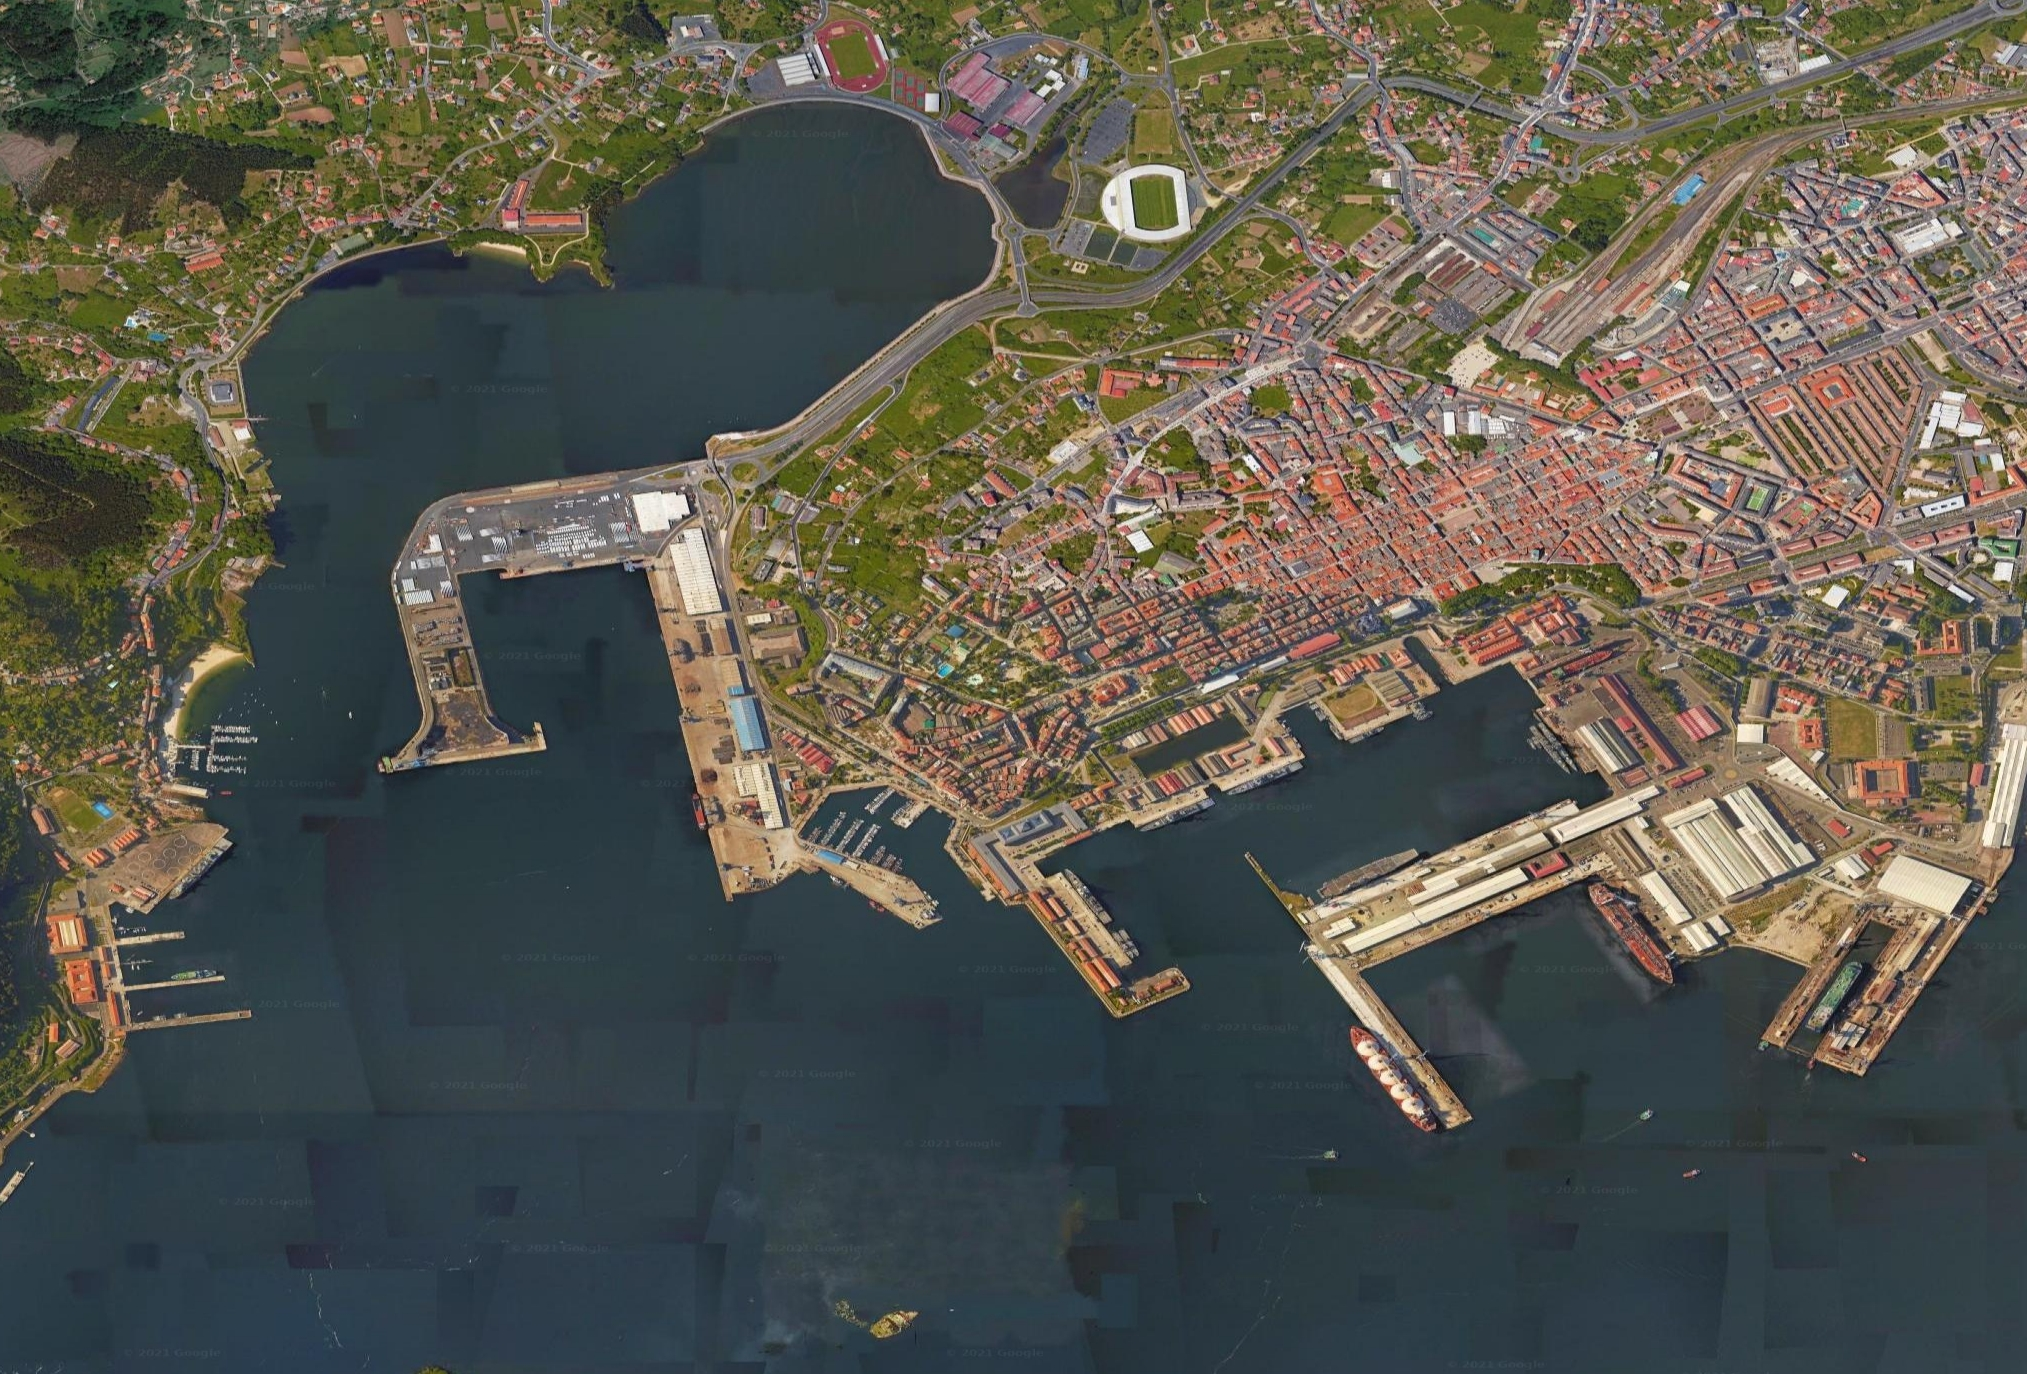harbor: (393, 485, 2027, 1139), (113, 666, 316, 1063)
motorway: (727, 360, 886, 485), (882, 273, 1043, 379), (1210, 112, 1337, 245), (1038, 235, 1208, 314), (1501, 104, 1673, 176), (1332, 60, 1506, 130), (1671, 60, 1843, 130), (1845, 3, 2027, 64)
